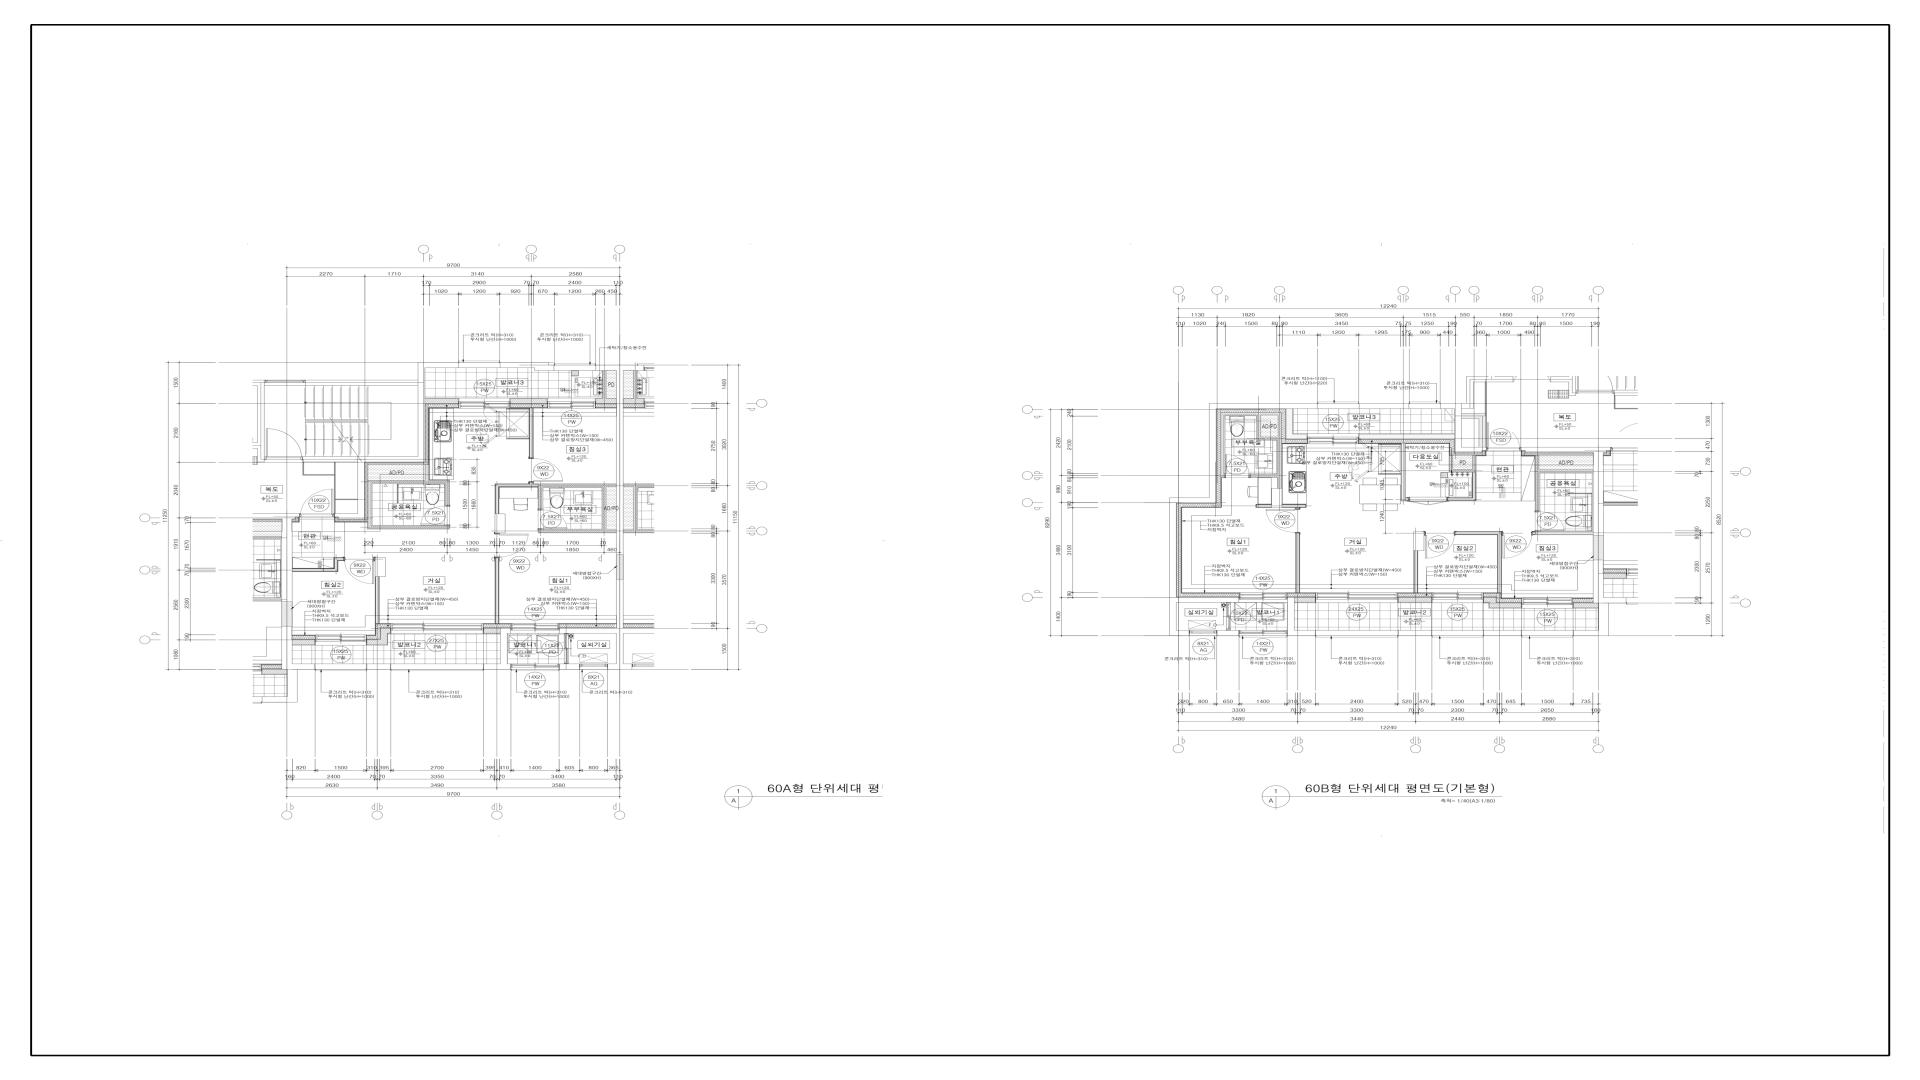door: (264, 428, 303, 462), (1486, 422, 1521, 451), (299, 489, 335, 517), (1501, 532, 1536, 559), (495, 533, 529, 558), (1265, 509, 1300, 533), (344, 557, 375, 584), (1424, 532, 1455, 559), (530, 458, 563, 483), (1536, 511, 1566, 532), (539, 509, 568, 530), (420, 505, 449, 526), (1224, 454, 1250, 477), (1409, 497, 1448, 506), (564, 634, 569, 664), (1226, 603, 1231, 630)
wall: (559, 365, 654, 634), (1169, 403, 1286, 597), (303, 362, 458, 462), (1286, 403, 1462, 439), (253, 514, 299, 626), (1521, 447, 1611, 503), (368, 480, 449, 529), (1221, 412, 1281, 477), (539, 484, 616, 530), (1593, 503, 1626, 603), (1536, 455, 1594, 511), (1455, 532, 1501, 593), (1169, 597, 1239, 636), (1250, 415, 1282, 489), (1462, 376, 1513, 409), (335, 462, 364, 519), (623, 484, 654, 532), (252, 670, 298, 702), (282, 626, 315, 670), (496, 484, 539, 514), (1573, 603, 1609, 636), (484, 628, 511, 670), (1287, 597, 1315, 636), (253, 380, 265, 462), (425, 465, 449, 505), (608, 634, 632, 670), (1462, 413, 1486, 447), (1448, 472, 1476, 501), (623, 371, 644, 404), (292, 558, 344, 571), (306, 380, 418, 386), (596, 371, 616, 404), (1286, 409, 1307, 439), (391, 664, 484, 670), (1551, 376, 1576, 396), (1315, 630, 1398, 636), (500, 362, 554, 371), (1359, 434, 1455, 439), (1483, 597, 1522, 609), (1450, 455, 1476, 472), (1455, 439, 1486, 453), (367, 628, 391, 645), (1432, 630, 1484, 636), (1521, 630, 1573, 636), (315, 664, 367, 670), (554, 365, 596, 371), (458, 362, 500, 368), (1401, 443, 1405, 501), (1484, 630, 1522, 636), (375, 557, 386, 577), (1398, 630, 1432, 636), (1398, 597, 1432, 603), (425, 398, 458, 404), (496, 558, 499, 624), (1272, 489, 1282, 508), (1414, 532, 1424, 551), (495, 514, 505, 533), (375, 577, 379, 624), (1296, 533, 1299, 593), (511, 399, 547, 404), (1536, 532, 1593, 535), (539, 530, 616, 532), (1573, 602, 1598, 608), (1614, 390, 1638, 396), (367, 664, 391, 670), (292, 639, 315, 645), (1217, 630, 1239, 636), (1294, 597, 1316, 603), (1414, 551, 1417, 593), (559, 664, 580, 670), (262, 669, 287, 674), (1604, 573, 1626, 578), (530, 408, 532, 458), (483, 628, 501, 633), (253, 536, 282, 539), (253, 598, 282, 601), (1282, 505, 1306, 507), (1256, 505, 1272, 507), (1405, 498, 1409, 501), (530, 483, 533, 484), (1297, 508, 1299, 509)
window: (1316, 592, 1398, 600), (391, 623, 483, 630), (458, 401, 511, 409), (1432, 592, 1483, 600), (1239, 630, 1287, 638), (1239, 592, 1287, 600), (315, 635, 367, 642), (1307, 437, 1359, 444), (1522, 598, 1573, 605), (511, 623, 560, 630), (511, 664, 559, 671), (547, 402, 596, 408), (391, 669, 484, 671), (265, 380, 306, 383), (580, 664, 608, 667), (1189, 630, 1217, 633), (1315, 636, 1398, 637), (632, 664, 655, 667), (315, 670, 367, 671), (1432, 636, 1484, 637), (1522, 636, 1573, 637), (554, 364, 596, 365), (458, 361, 500, 362), (1318, 402, 1359, 403), (1409, 402, 1440, 403)
